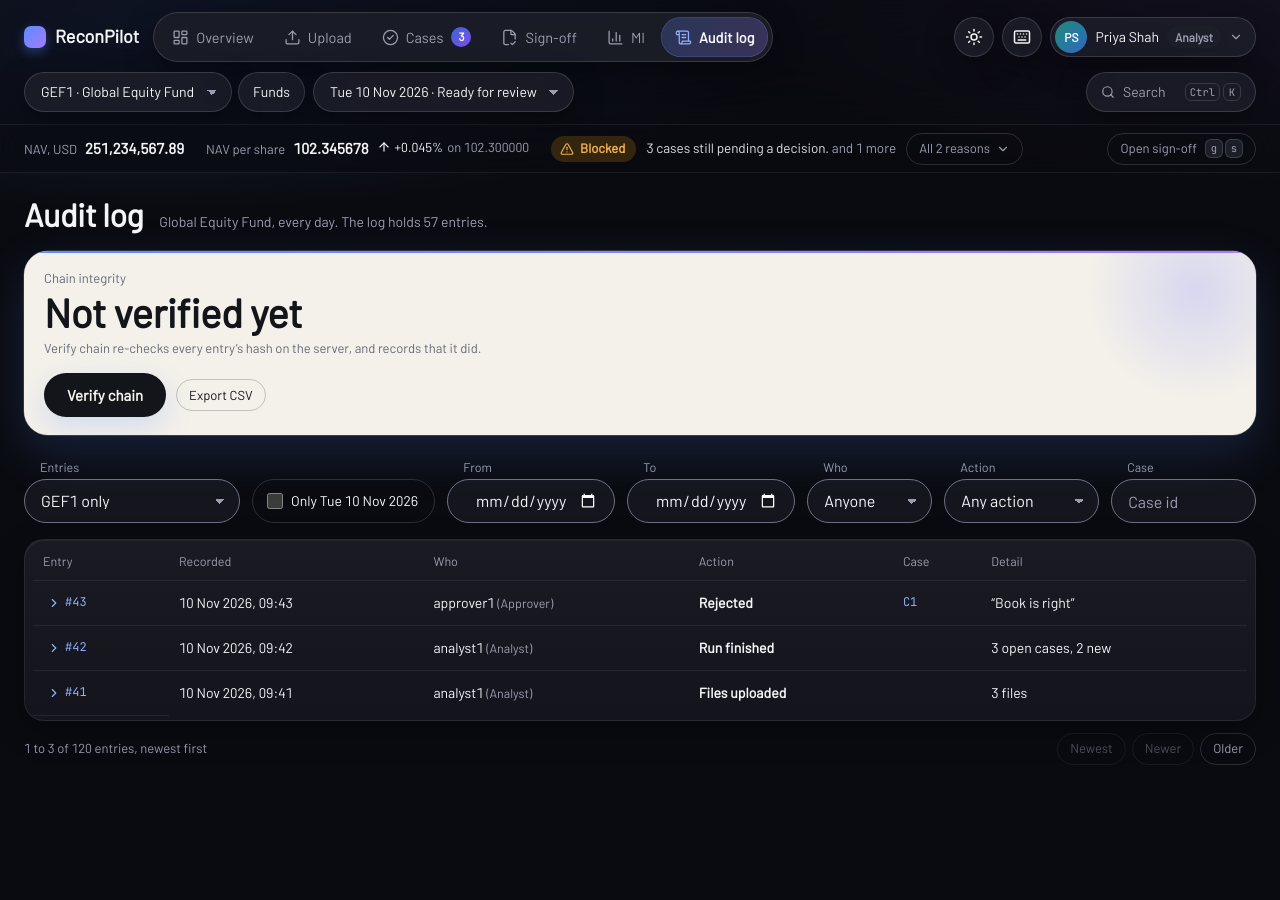
audit log › pages older and back to newer with the server's cursors
Expected: the heading "Audit log" is shown, [24, 195, 143, 233]
Expected: the table named "Audit log entries" is shown, [33, 544, 1247, 716]
Click the button "Older" at (1228, 748), box [1200, 732, 1256, 764]
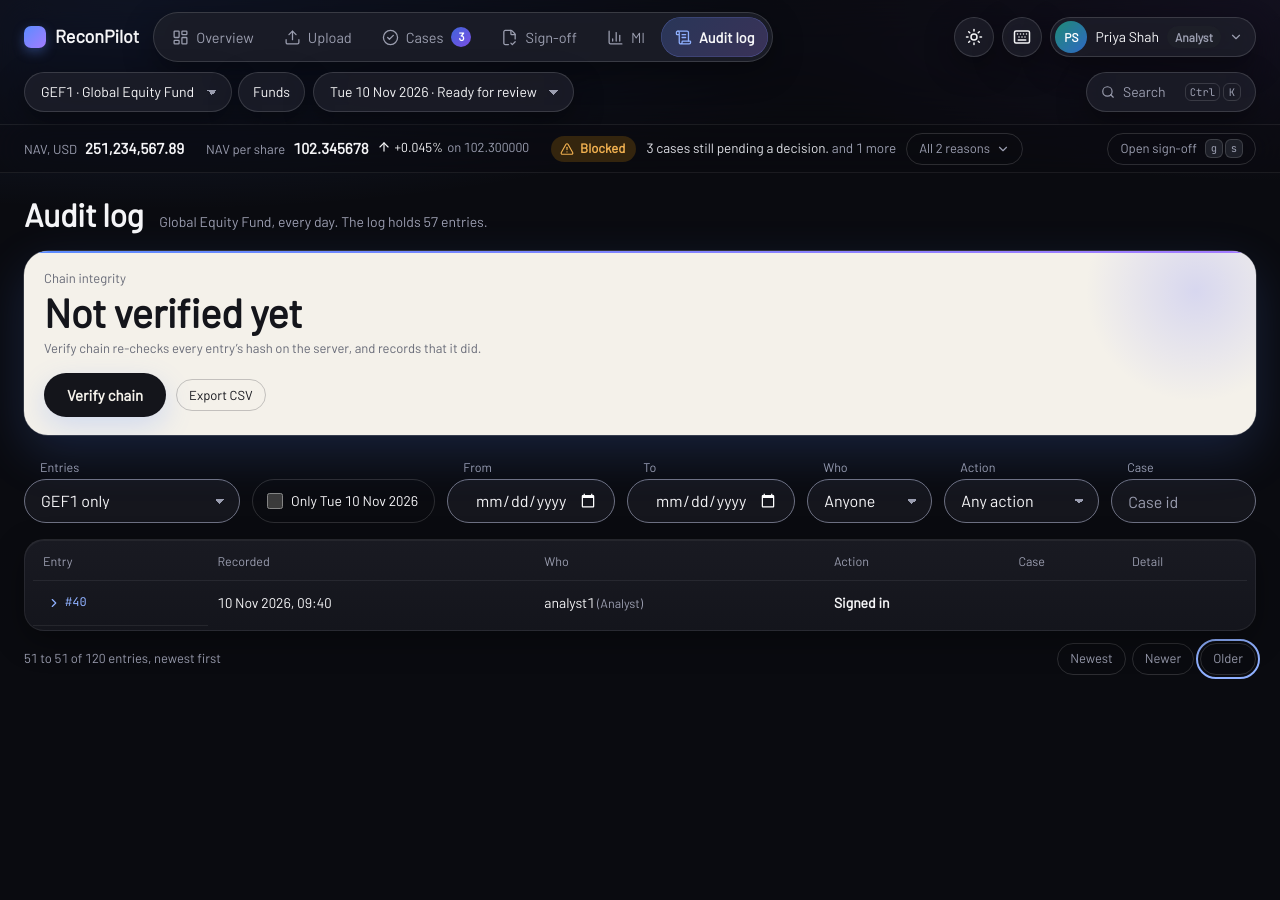
Result: the text "51 to 51 of 120 entries, newest first" is shown at [24, 649, 221, 668]
Click the button "Newer" at (1163, 658), box [1132, 642, 1194, 674]
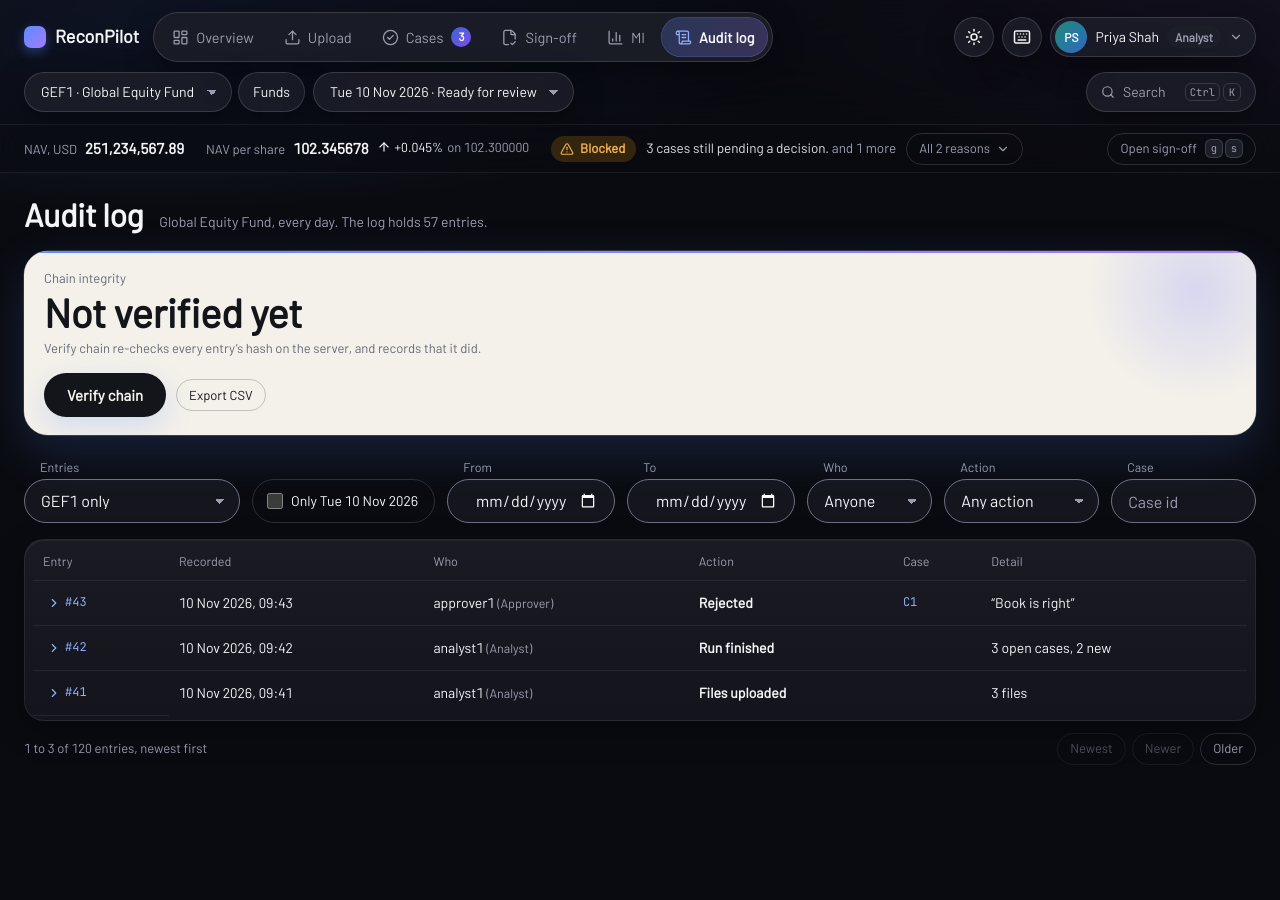
Result: the text "1 to 3 of 120 entries, newest first" is shown at [24, 739, 207, 758]
